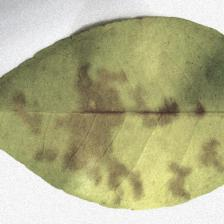black spot: (36, 75, 194, 173)
